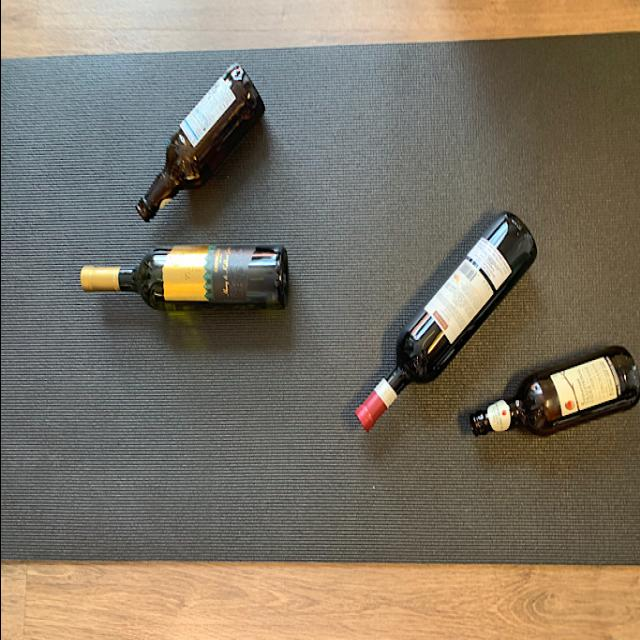litter: (344, 206, 537, 444), (128, 64, 264, 225), (468, 342, 636, 446), (82, 242, 288, 312)
